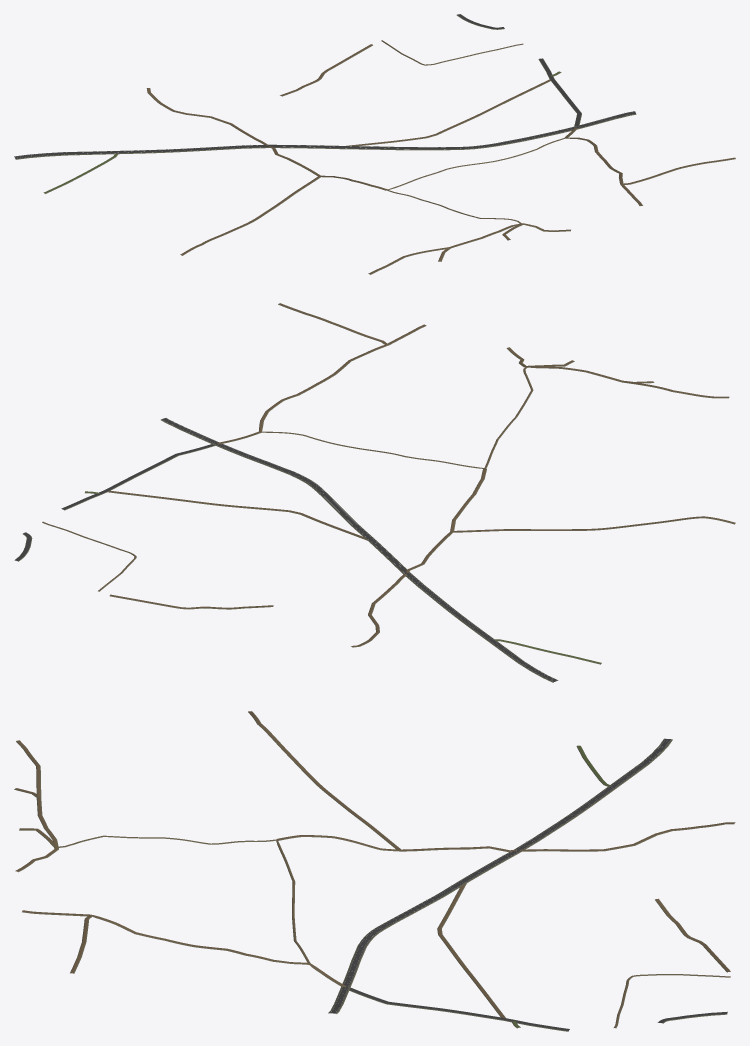
The picture shows the model from 3 angles, top to bottom: view 1: azimuth 30°, elevation 25°; view 2: azimuth 150°, elevation 25°; view 3: azimuth 270°, elevation 25°; orthographic projection. The views are drawn at different scales.
Parts seen in each view (by area): view 1: roads; view 2: roads; view 3: roads.
Part boxes in pixels (left/top/right/bottom): roads: left=14, top=14, right=735, bottom=274; roads: left=14, top=303, right=735, bottom=682; roads: left=14, top=711, right=735, bottom=1031.
Bounding box in the file's own units: 816 × 96.58 × 809.
